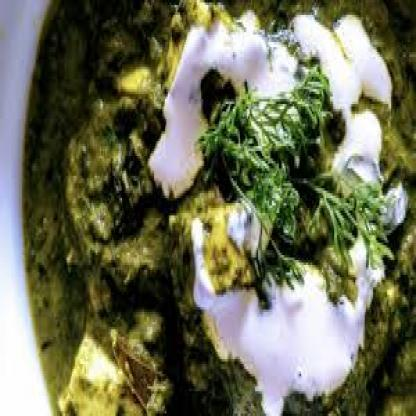palak_paneer: (22, 0, 416, 416)
